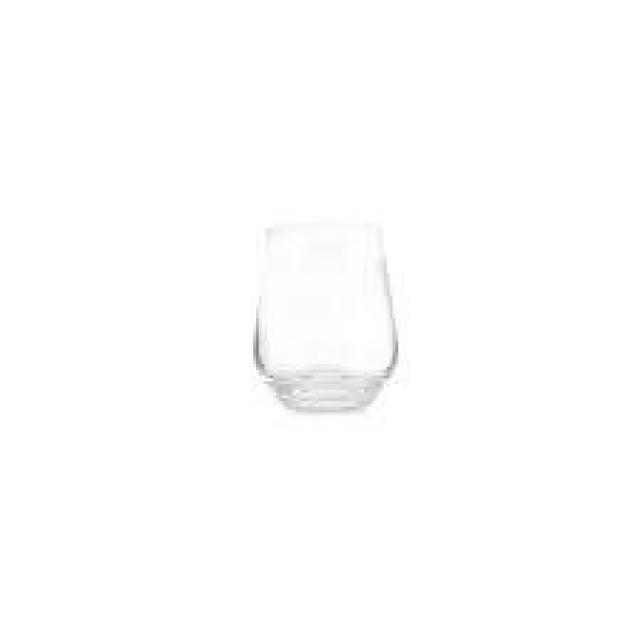non-organic waste: (249, 220, 400, 414)
